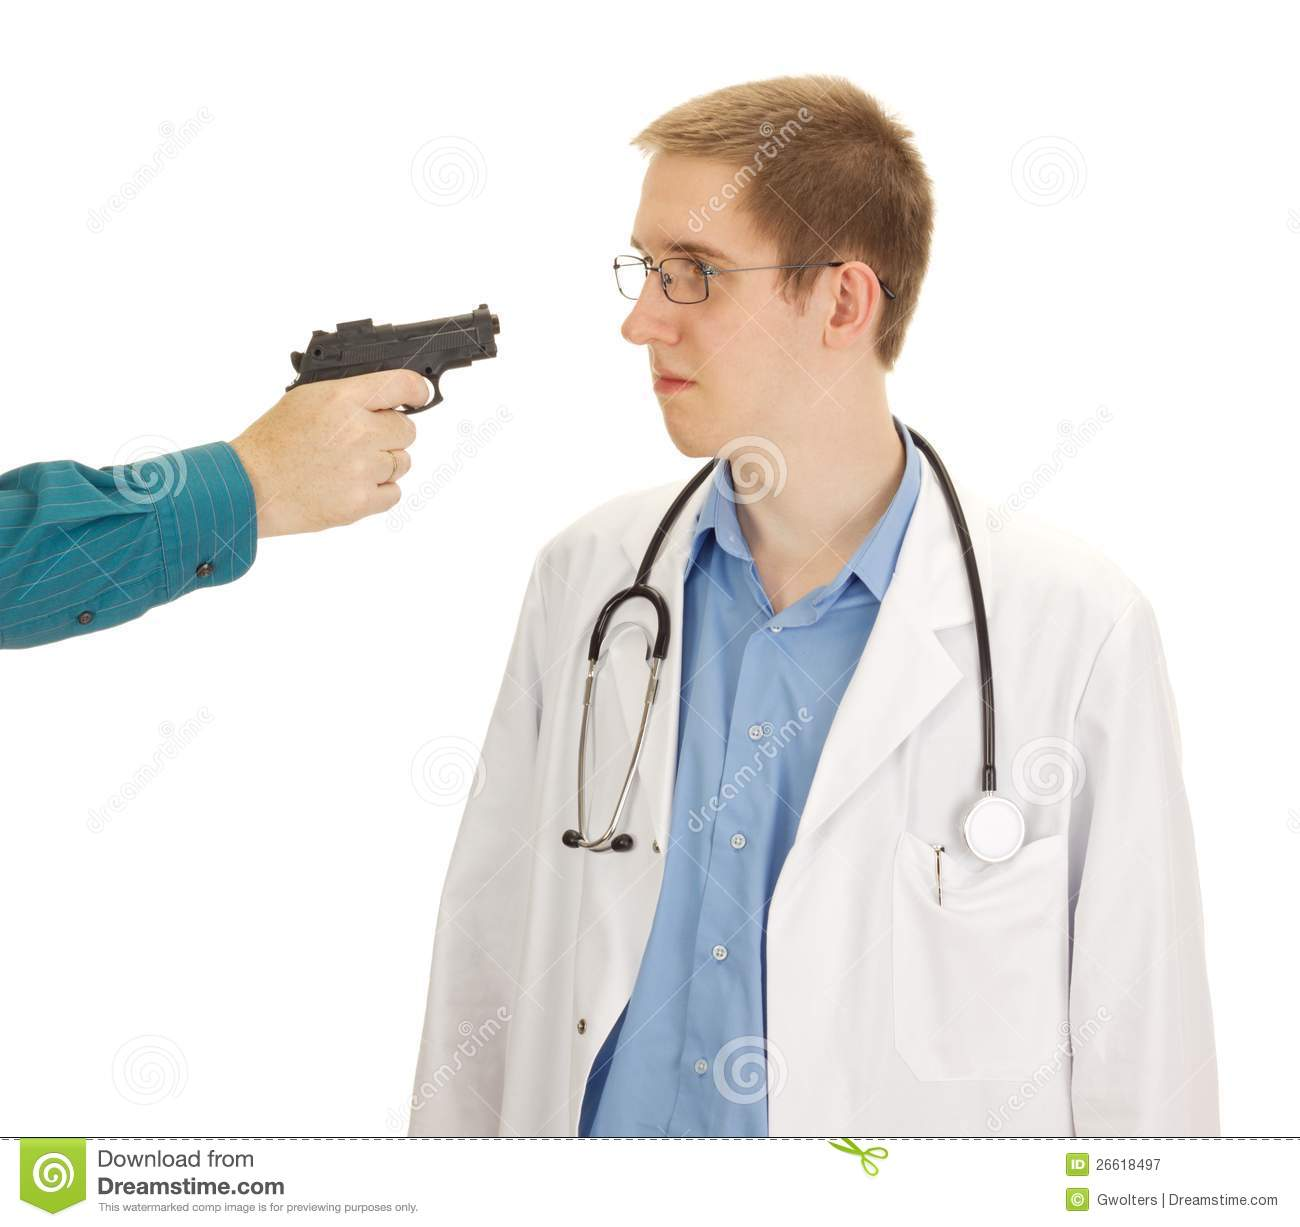pistol: (288, 304, 503, 411)
